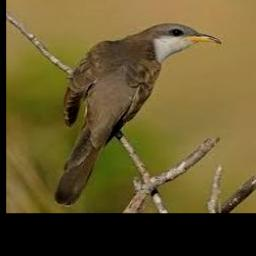Cuckoo: (51, 24, 221, 206)
